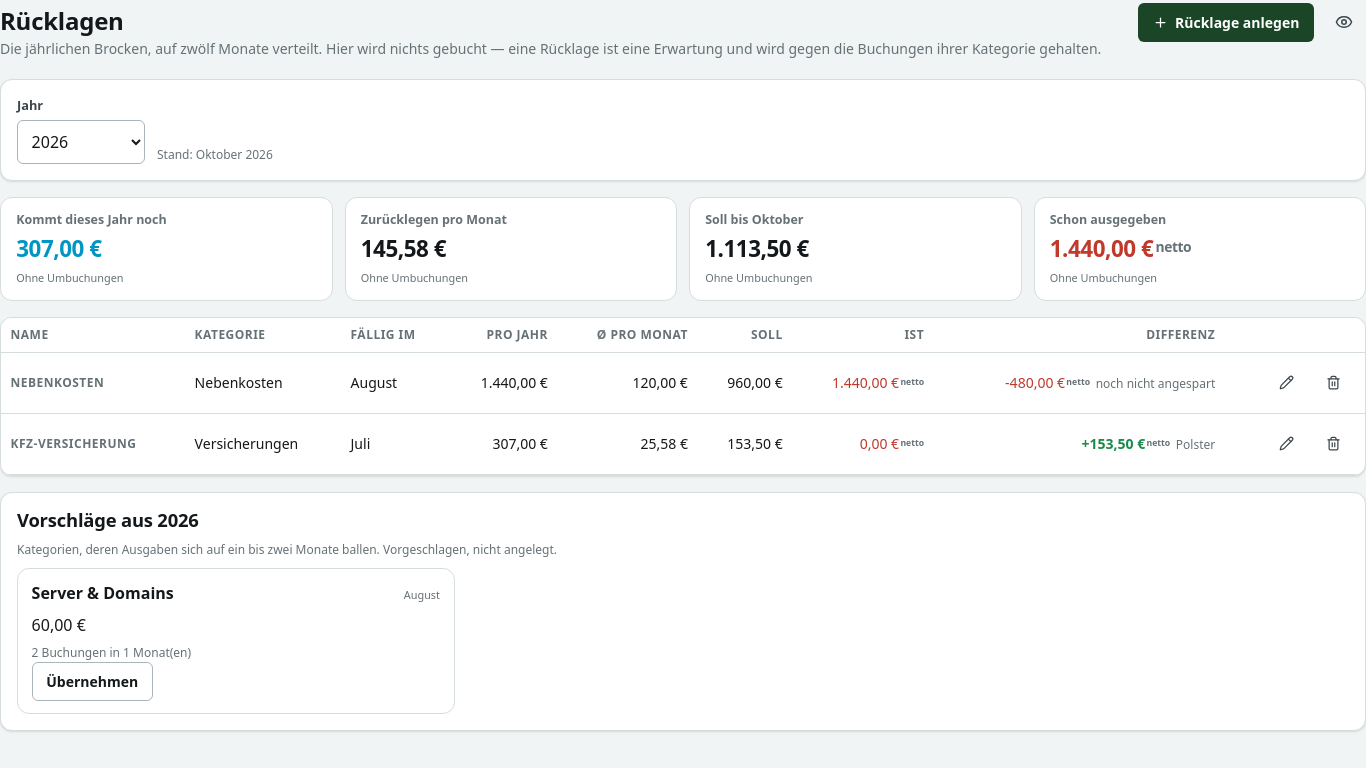
it: Rücklagen › offers suggestions with their evidence and creates nothing until saved
This screenshot has width=1366, height=768.
expect the text "Server & Domains" is shown: met, box [32,582,174,604]
expect the text "2 Buchungen in 1 Monat(en)" is shown: met, box [32,644,191,660]
Click the button "Übernehmen": {"x": 92, "y": 681} [32,662,153,700]
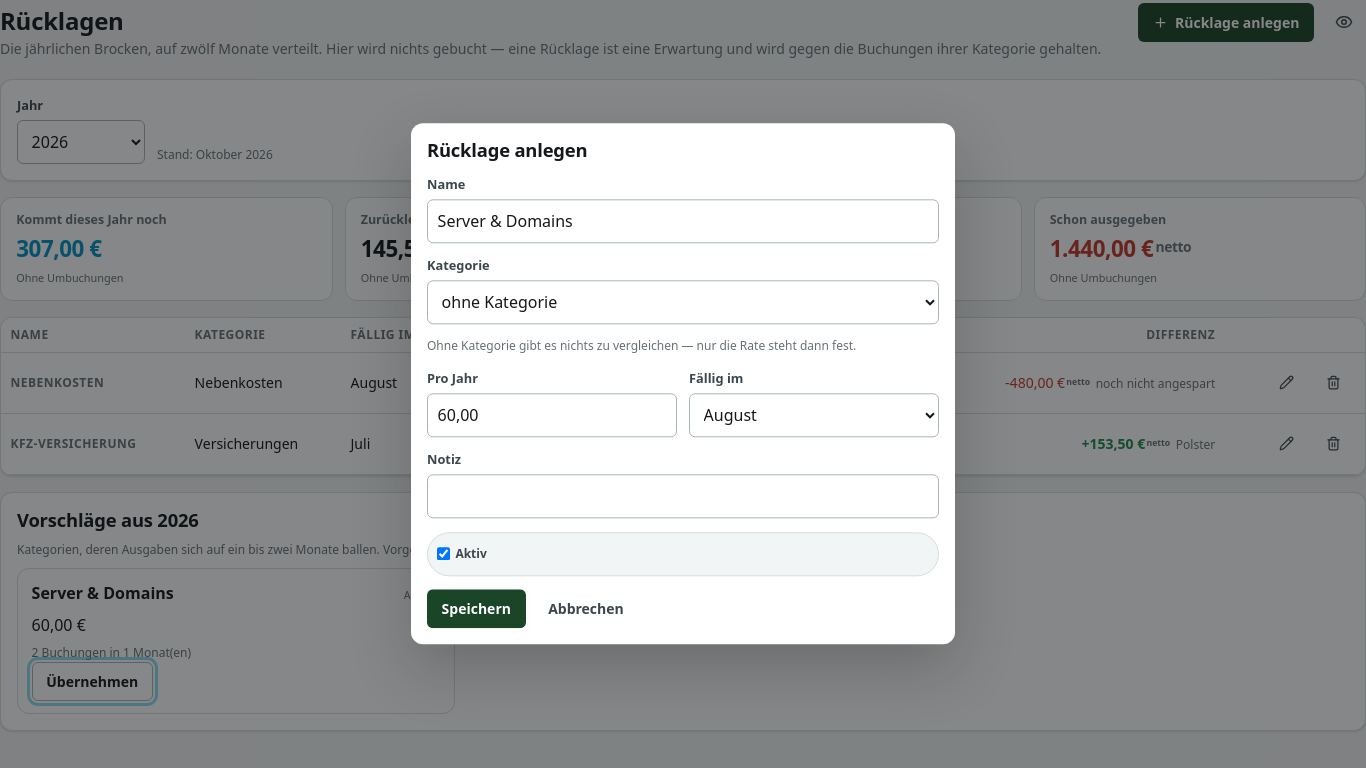
expect the dialog is shown: met, box [411,123,955,645]
expect the field labelled "Name" holds "Server & Domains": met, box [427,199,939,243]
